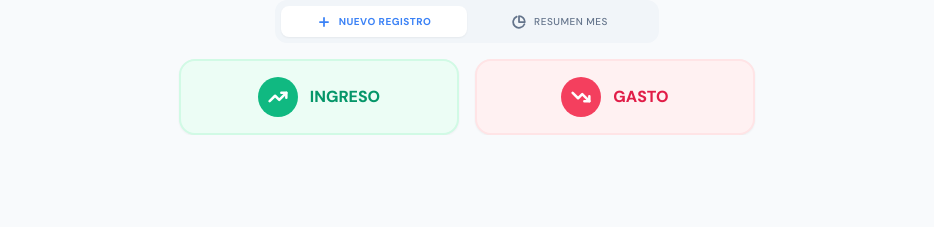
Scenario: TransactionForm - Integration Tests › al hacer clic en GASTO muestra el formulario
This screenshot has width=934, height=227.
Click the button "GASTO" at (615, 97), box [475,59,755,135]
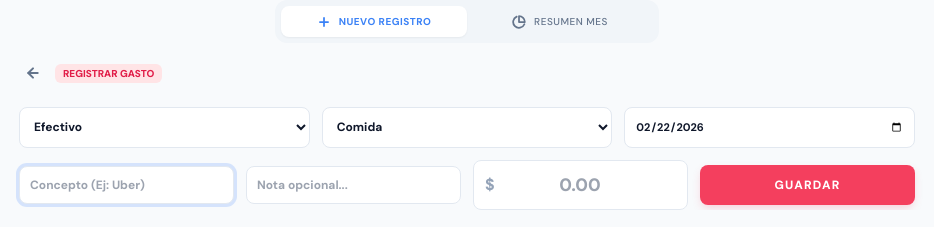
Result: the field with placeholder "Concepto (Ej: Uber)" is shown at [19,166,234,204]
